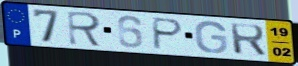6: (116, 14, 145, 49)
7: (32, 8, 63, 44)
G: (194, 20, 230, 55)
P: (151, 16, 186, 51)
R: (66, 10, 105, 48), (228, 22, 268, 58)
